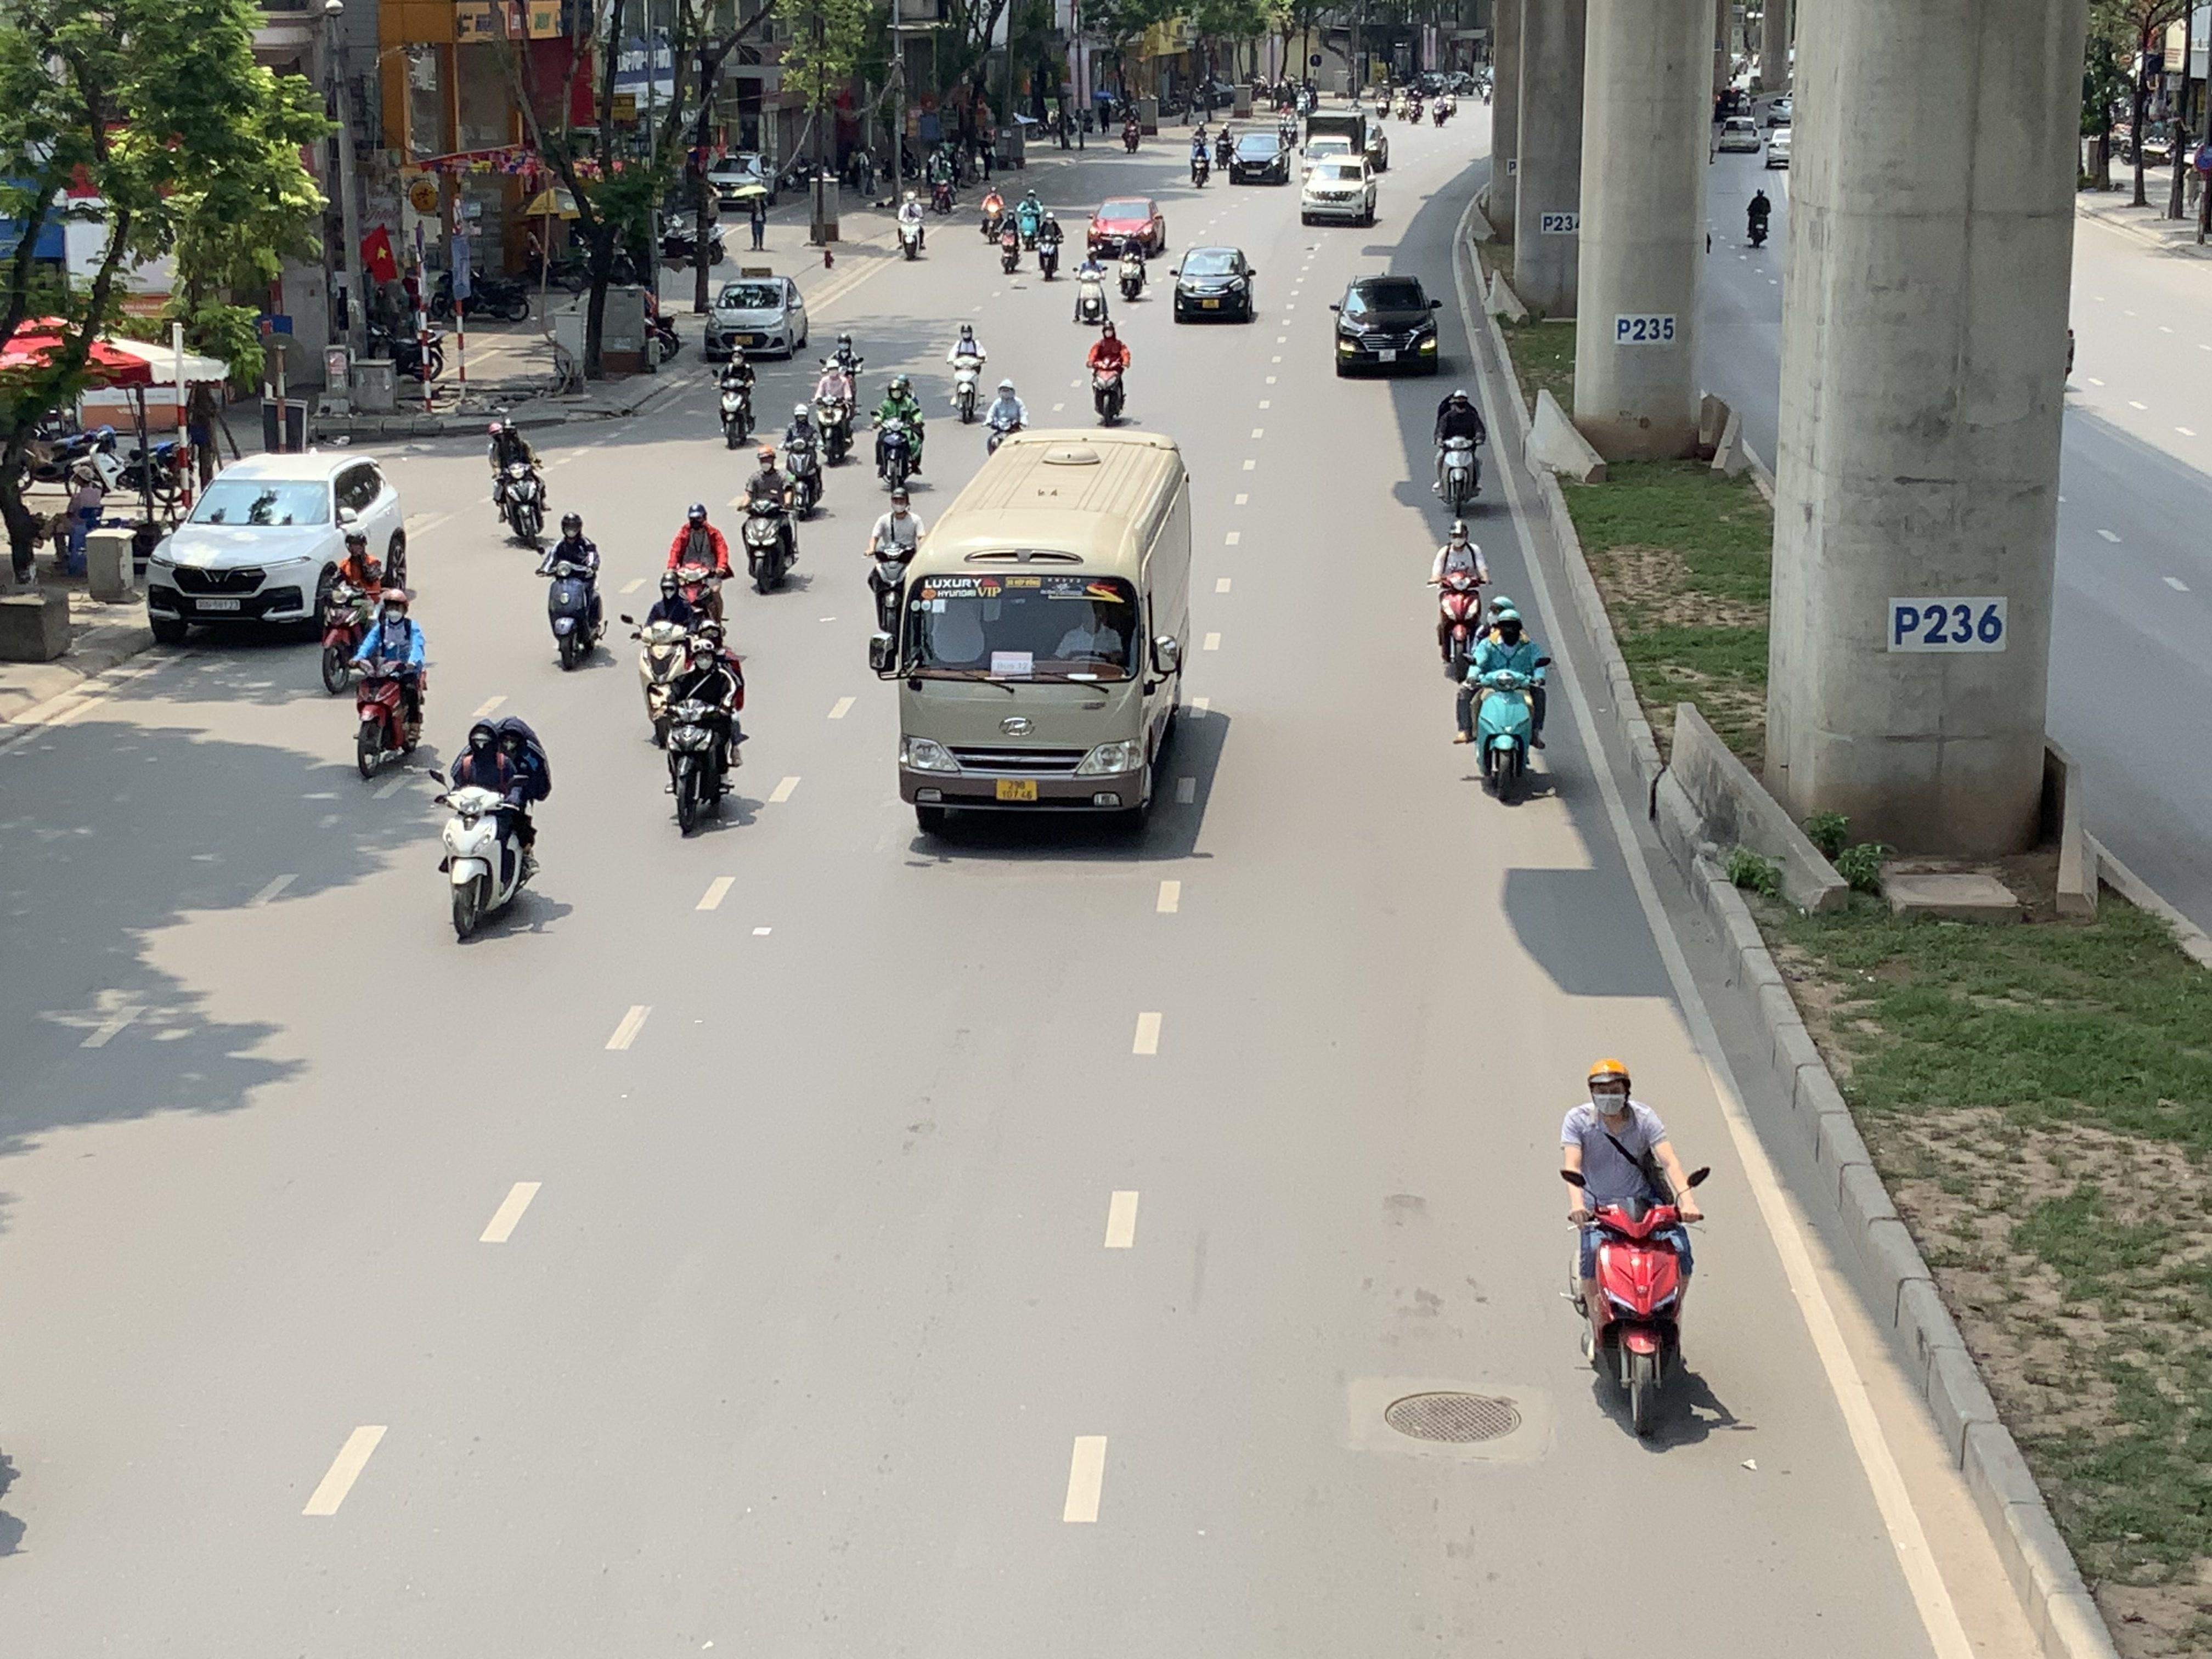BSD: (195, 599, 240, 610)
BSV: (996, 779, 1036, 800)
bus: (880, 427, 1195, 835)
car: (143, 448, 409, 643), (1331, 274, 1442, 378), (704, 274, 810, 361), (1170, 244, 1258, 324), (1299, 155, 1379, 227), (1089, 195, 1167, 258), (707, 153, 775, 209), (1226, 129, 1291, 185)
motorbike: (1561, 1056, 1709, 1446), (432, 708, 547, 943), (1460, 599, 1552, 805), (657, 627, 745, 838), (350, 587, 430, 781), (629, 568, 704, 742), (317, 526, 388, 695), (536, 511, 608, 671), (866, 490, 925, 659), (737, 444, 803, 594), (1432, 519, 1491, 678), (662, 502, 732, 631), (488, 418, 549, 545), (1432, 389, 1487, 518), (871, 375, 927, 493), (775, 403, 829, 519), (810, 361, 859, 465), (1085, 319, 1130, 425), (714, 343, 758, 448), (946, 321, 988, 425), (984, 378, 1029, 455), (1071, 240, 1111, 326), (895, 190, 927, 261), (1118, 232, 1148, 301), (1035, 207, 1062, 279), (1743, 183, 1773, 247), (998, 207, 1026, 274), (979, 179, 1007, 244), (927, 164, 956, 216), (1188, 131, 1212, 188)
